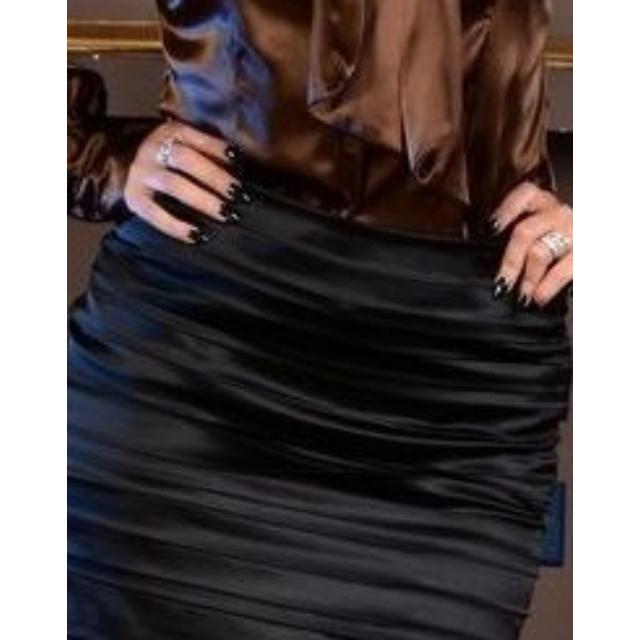silk: (67, 0, 573, 640)
